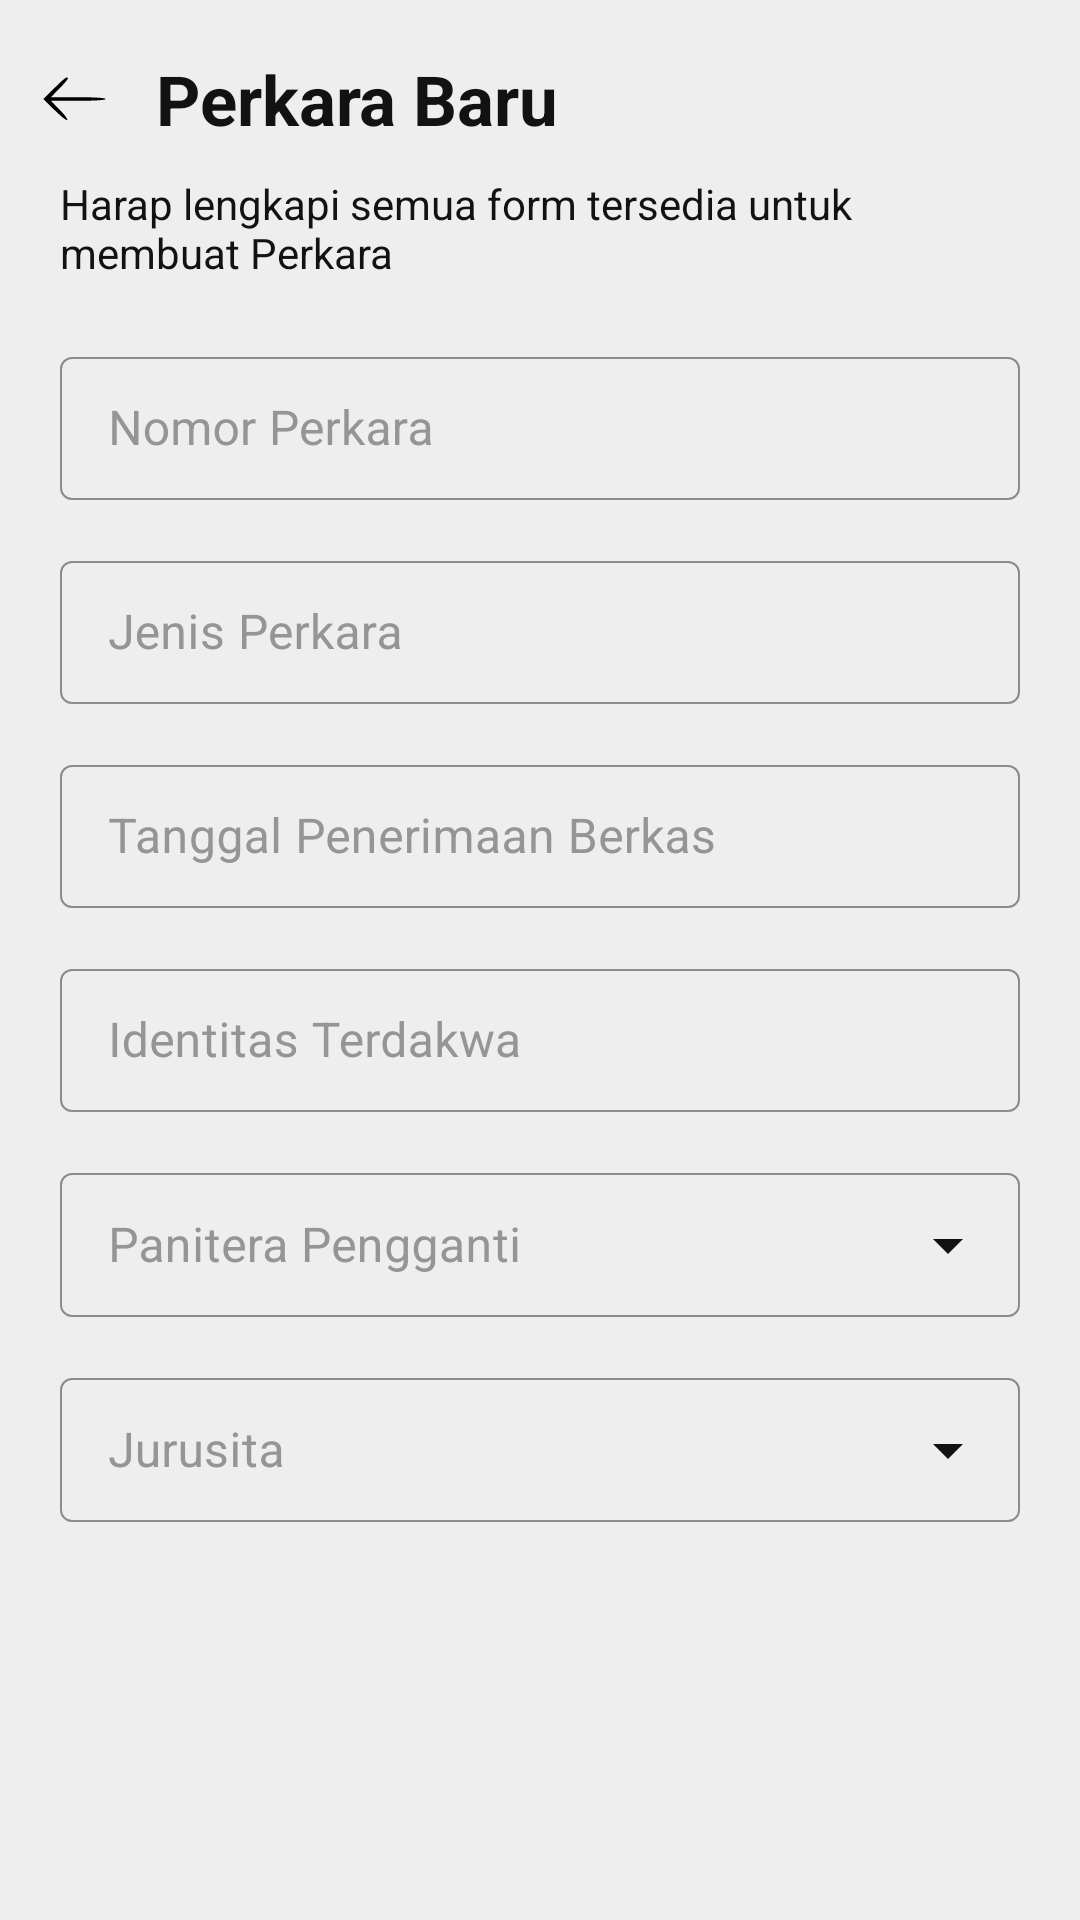

Where icons sit on this 1080w x 1920h app screen, as bbox=(x1, y1, x2, y2):
arrow left: bbox=(43, 77, 106, 120)
